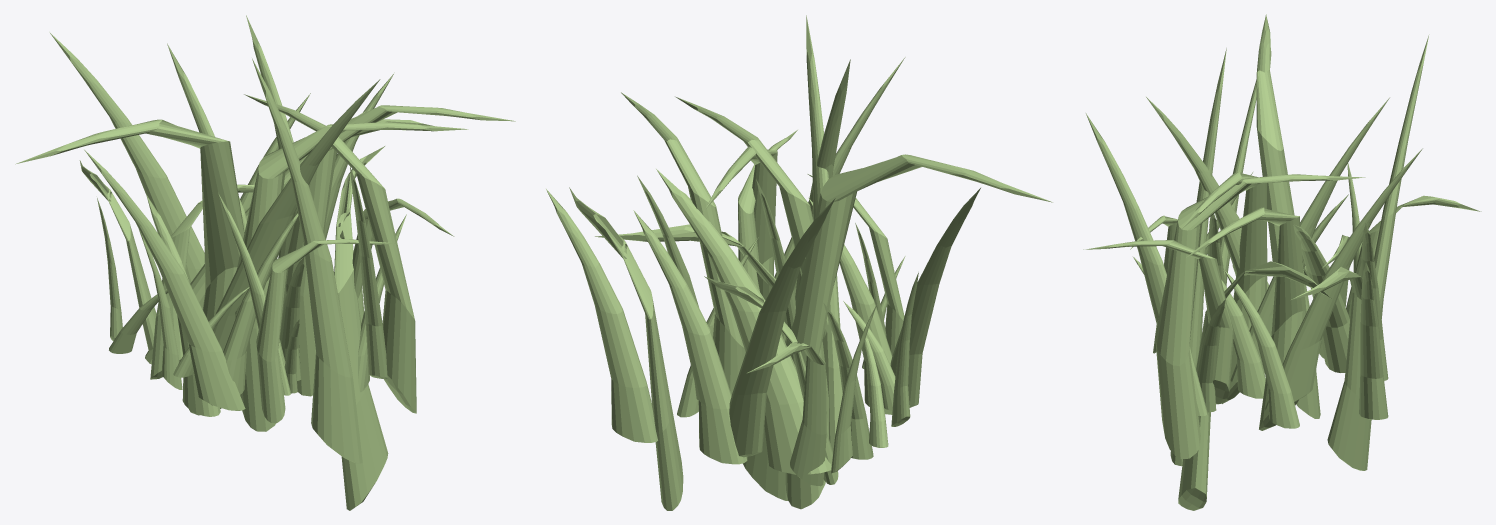
Rendered from tall grass1.fbx.
3 views of the same model, side by side, from view 1: azimuth 30°, elevation 25°; view 2: azimuth 150°, elevation 25°; view 3: azimuth 270°, elevation 25° (orthographic). The views are drawn at different scales.
Visible parts, largest first — view 1: Cube.012; view 2: Cube.012; view 3: Cube.012.
Boxes of the visible parts, box(x1,y1,x2,y2) form: Cube.012: box(15, 15, 515, 510); Cube.012: box(546, 15, 1052, 510); Cube.012: box(1083, 14, 1481, 510).
Bounding box in the file's own units: 354 × 336 × 285.
